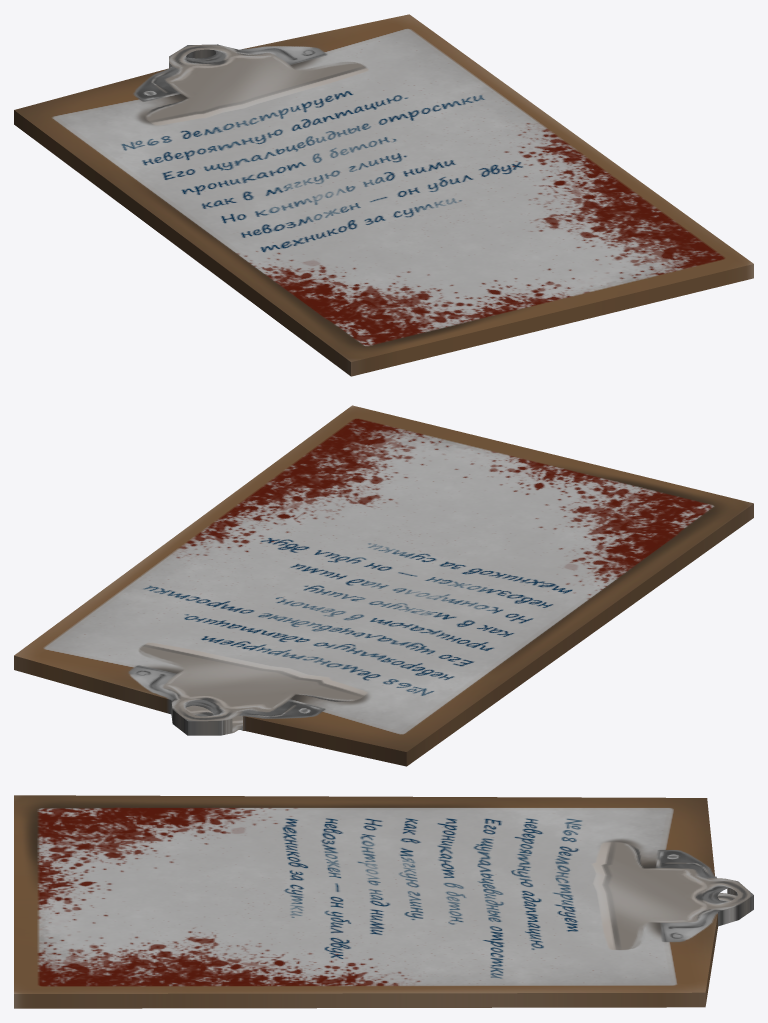
Rendered from The_tablet_is_on_the_fourth_level.fbx.
3 renders of one model, top to bottom at view 1: azimuth 30°, elevation 25°; view 2: azimuth 150°, elevation 25°; view 3: azimuth 270°, elevation 25°, orthographic.
Parts seen in each view (by area): view 1: The_tablet_is_on_the_fourth_level; view 2: The_tablet_is_on_the_fourth_level; view 3: The_tablet_is_on_the_fourth_level.
Part boxes in pixels (x1,y1,x2,y2): The_tablet_is_on_the_fourth_level: (14,14,753,376); The_tablet_is_on_the_fourth_level: (14,405,753,766); The_tablet_is_on_the_fourth_level: (14,795,753,1008).
Size of the model in its own units: 49.35 by 1.79 by 77.6.
